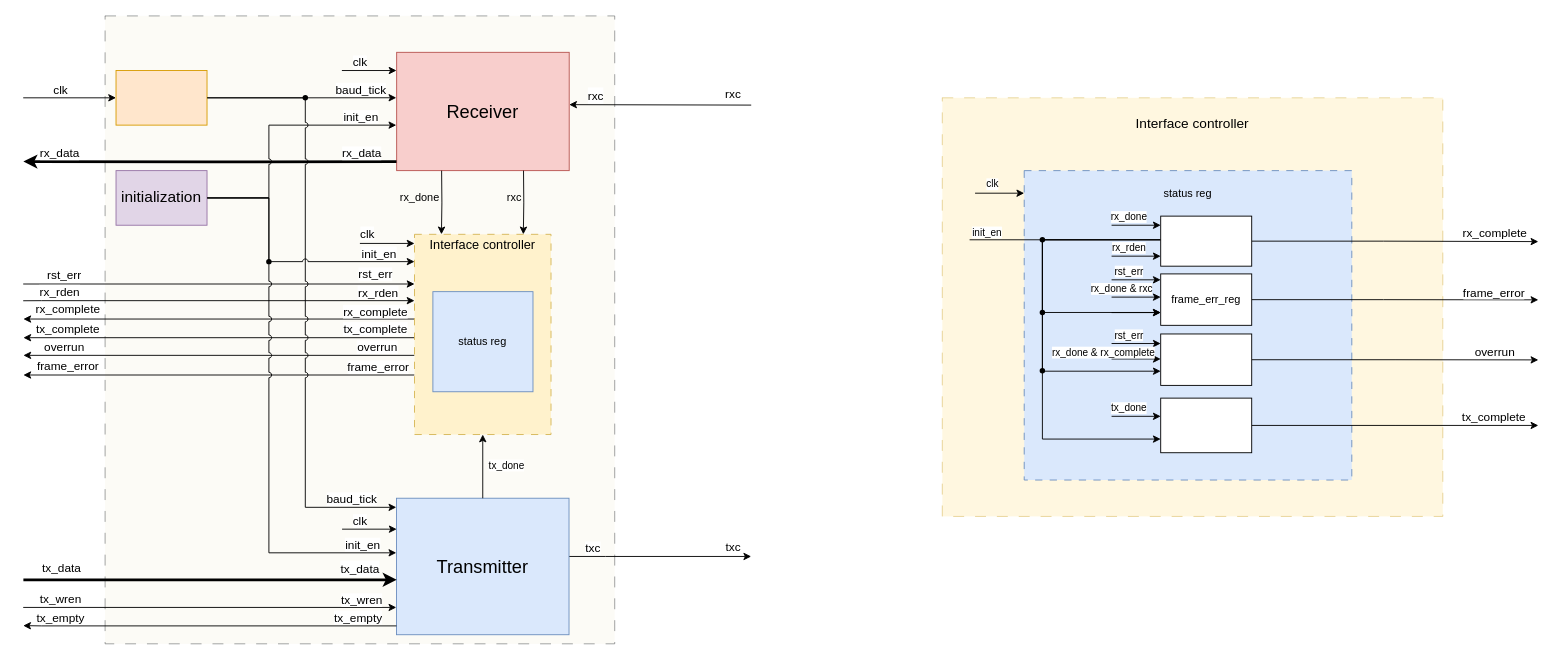
Image size: 1562x660. Some labels were removed from this diagram. Each missing label, with the centre of its shape:
"baud tick generator" belongs at point (161, 97).
"overrun_reg" belongs at point (1206, 359).
"rx_complete_reg" belongs at point (1206, 240).
"tx_complete_reg" belongs at point (1206, 425).
